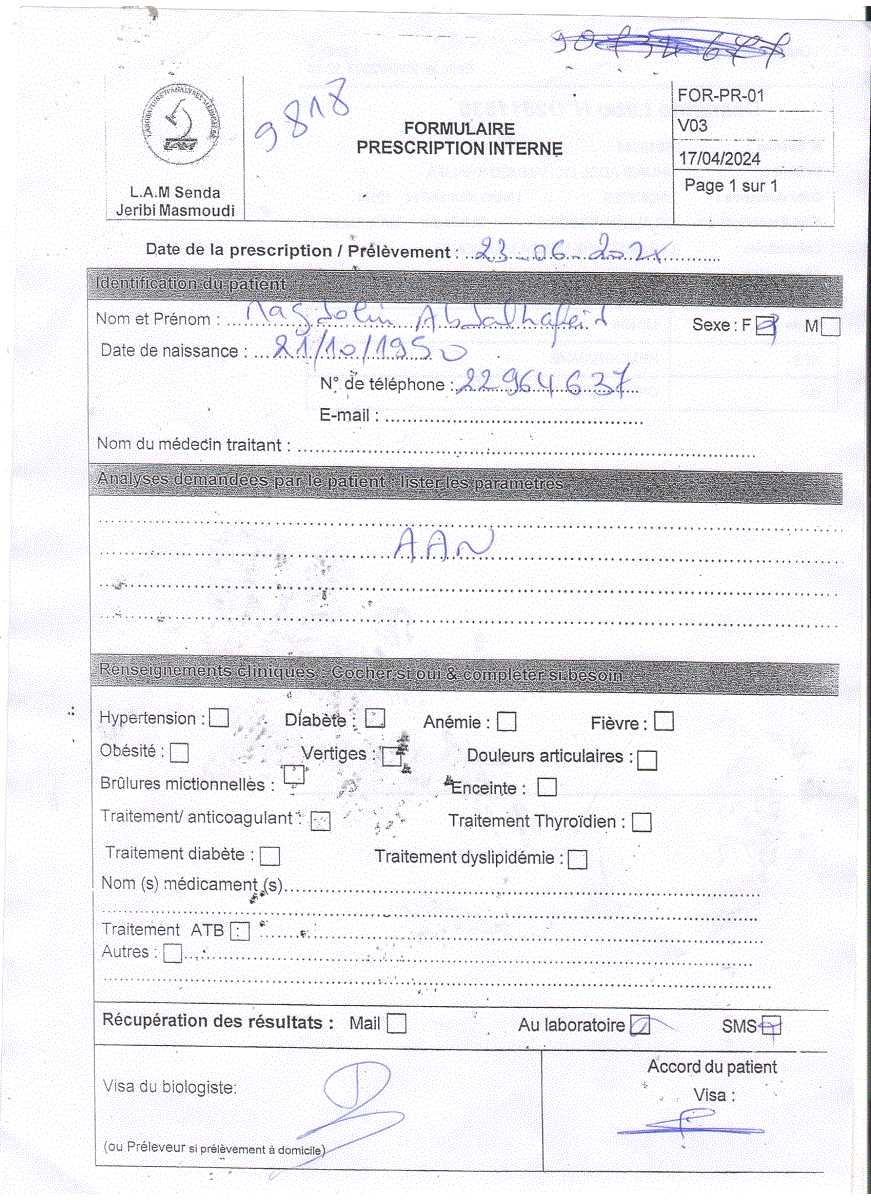zone_analyses: (91, 463, 666, 628)
zone_patient: (114, 222, 695, 264)
zone_prescripteur: (87, 266, 866, 435)
